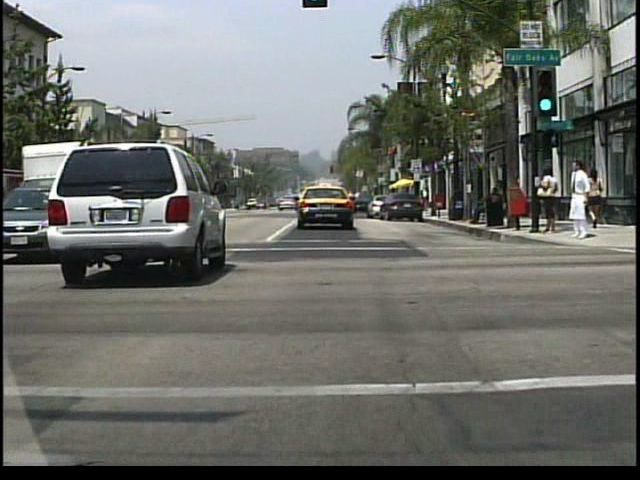person: (566, 159, 589, 240), (536, 164, 558, 236), (585, 168, 608, 233), (465, 189, 490, 227), (488, 179, 500, 223), (420, 185, 431, 212)
